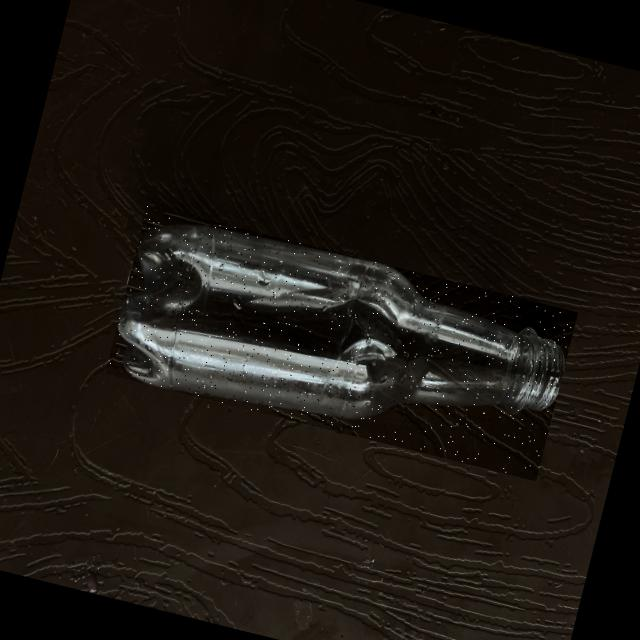PET_With_Liquid: (118, 225, 562, 418)
